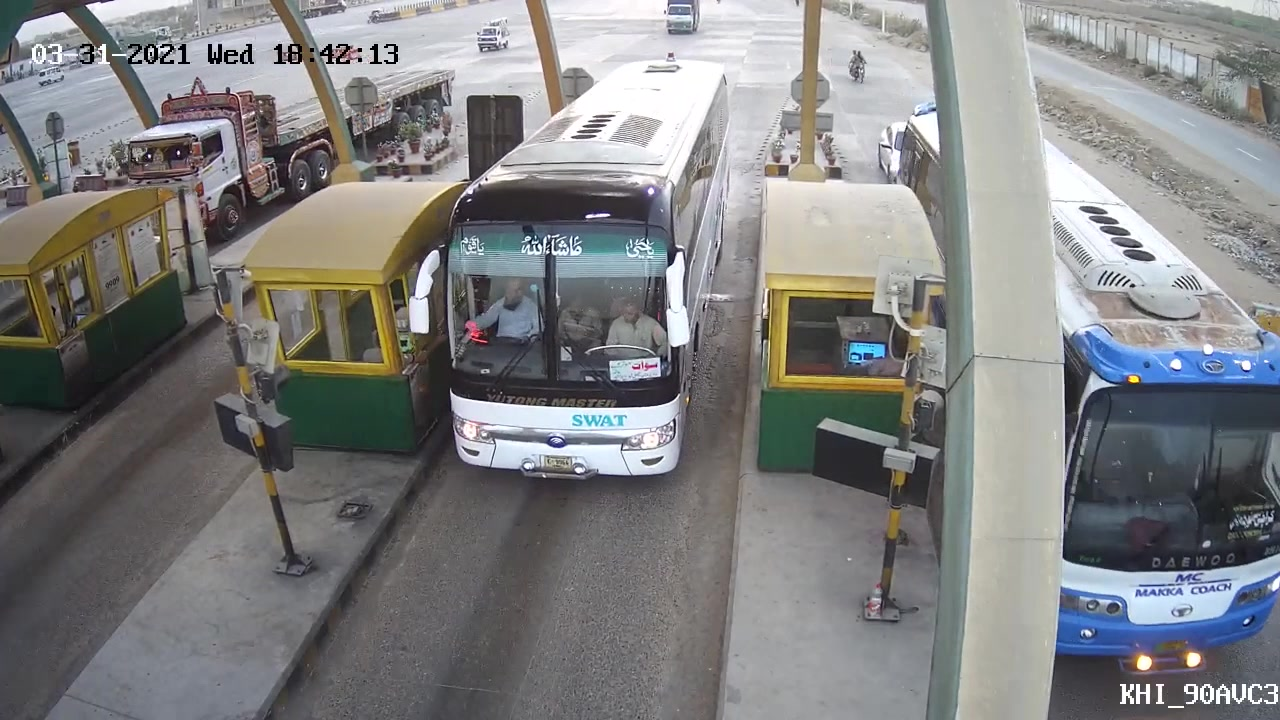F4: (414, 53, 742, 496)
